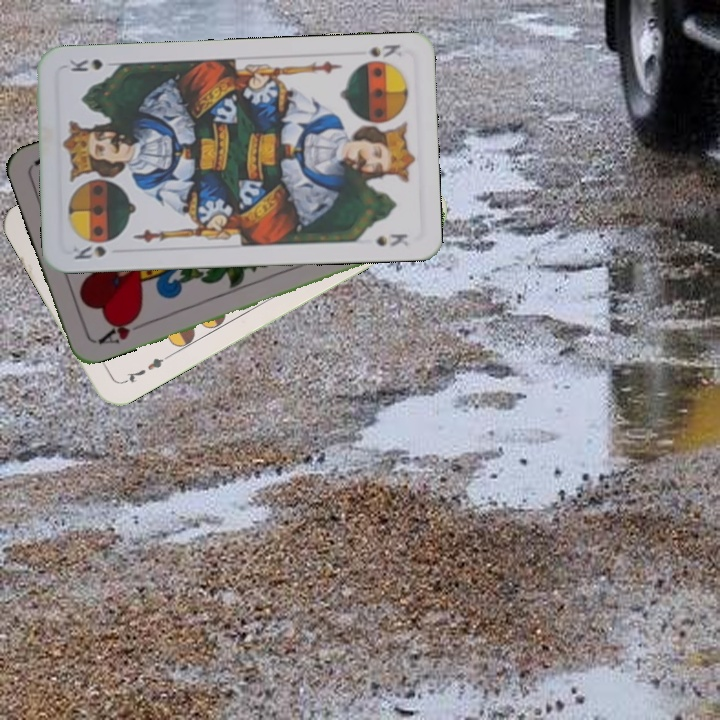E7: (117, 351, 171, 387)
HA: (94, 311, 149, 348)
SK: (69, 241, 109, 262), (365, 40, 405, 60)
